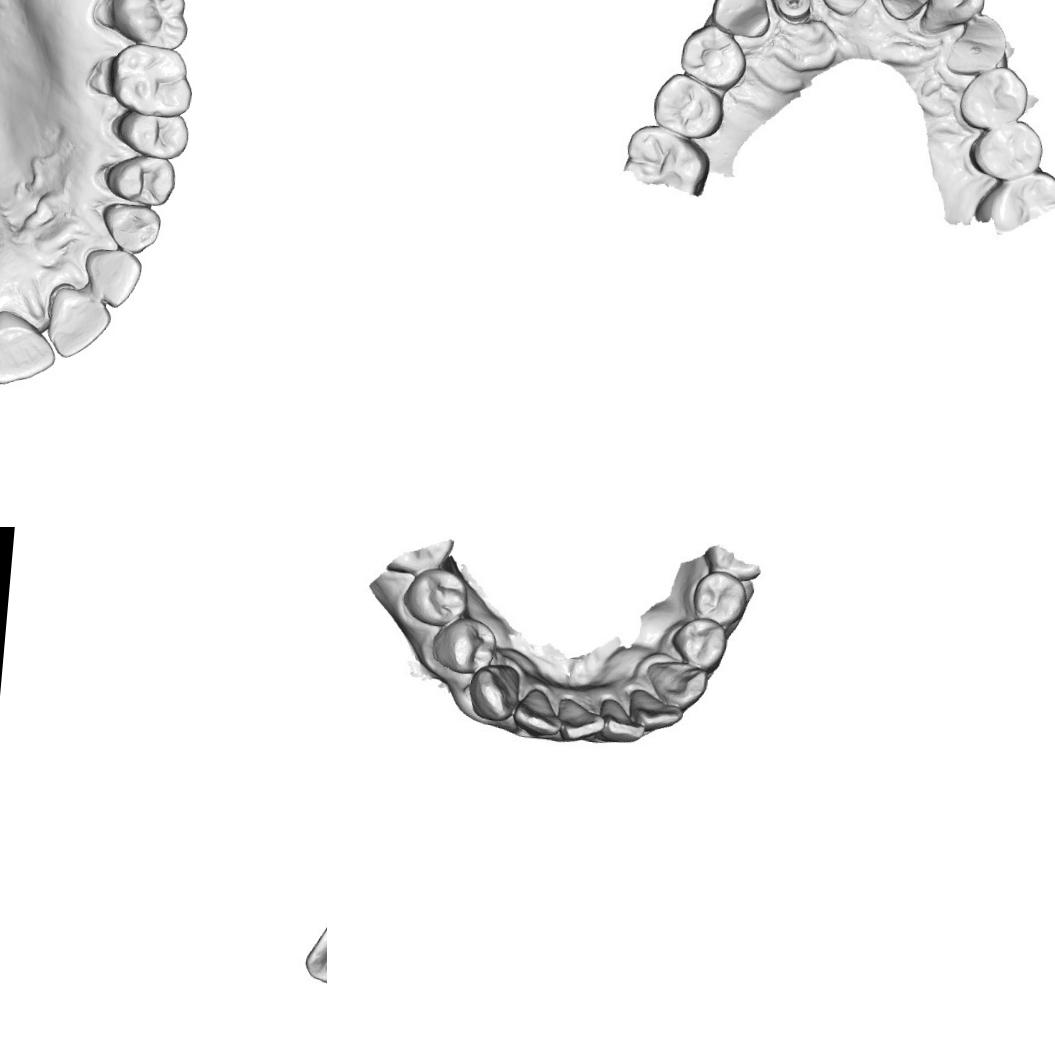canine: (942, 10, 1016, 81), (92, 198, 166, 256), (646, 657, 710, 709), (467, 662, 518, 724), (707, 0, 778, 40)
implant_minus: (772, 0, 810, 22)
incisor: (40, 282, 114, 362), (0, 304, 60, 389), (76, 244, 145, 311), (516, 679, 562, 743), (555, 696, 612, 744), (604, 694, 650, 748), (632, 686, 685, 732), (299, 912, 327, 988), (923, 0, 977, 37), (875, 0, 940, 16)
molar: (103, 40, 197, 120), (104, 0, 192, 51)
premolar: (954, 60, 1032, 134), (966, 110, 1046, 182), (652, 72, 730, 144), (677, 22, 747, 92), (109, 104, 191, 162), (100, 150, 180, 209), (402, 566, 470, 628), (662, 614, 728, 674), (430, 620, 494, 680), (688, 569, 750, 627)
